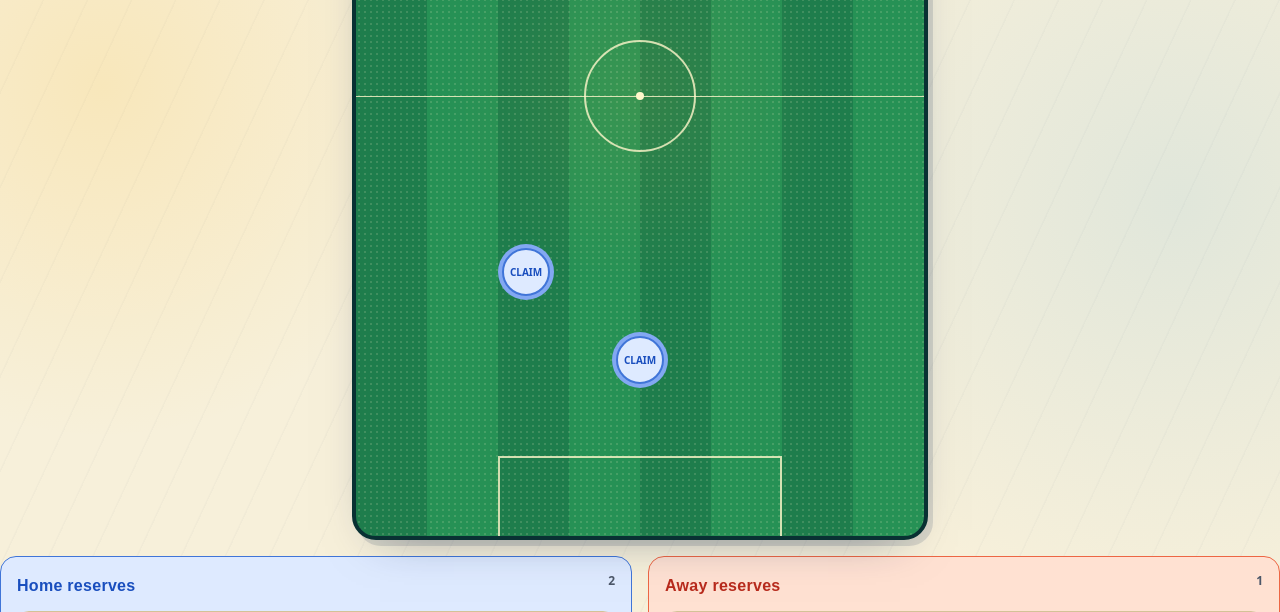
FormationBoard position claims › lets a joined player claim an open position on their own side and leaves reserves
(page scrolled)
expect the text "CLAIM" is shown 2 times: met, box [624,352,656,368]; [510,264,543,280]
Click the button with aria-label "position 1, open, claim it": (640, 360) [616,336,664,384]
(page scrolled)
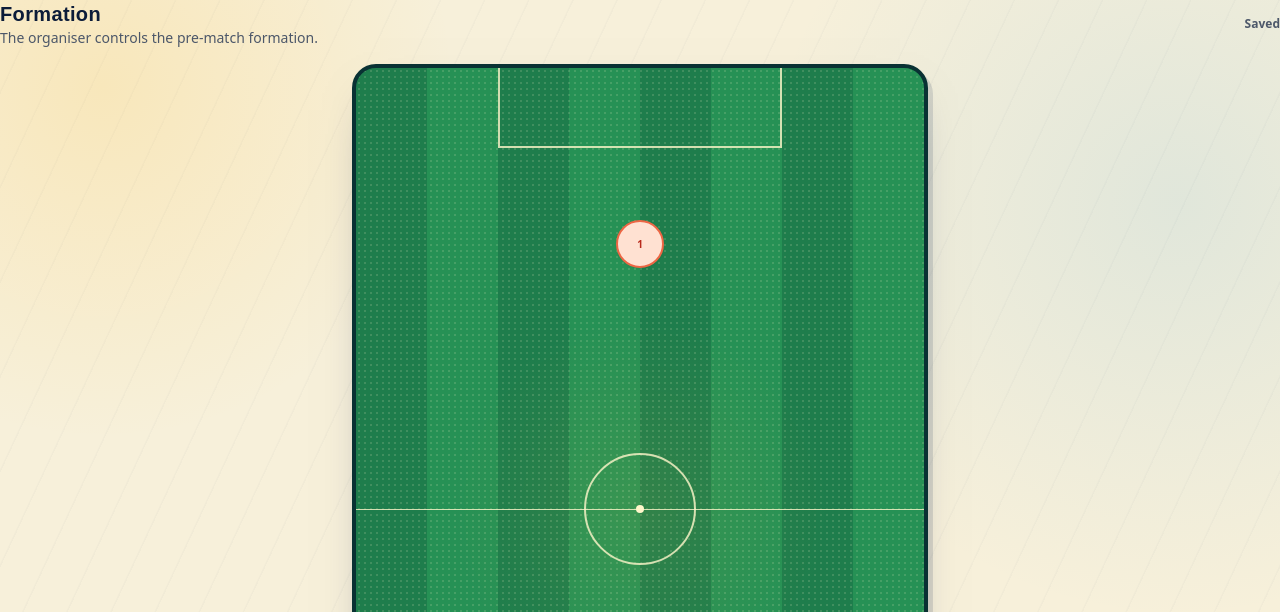
expect the text "Saved" is shown: met, box [1245,16,1279,32]
